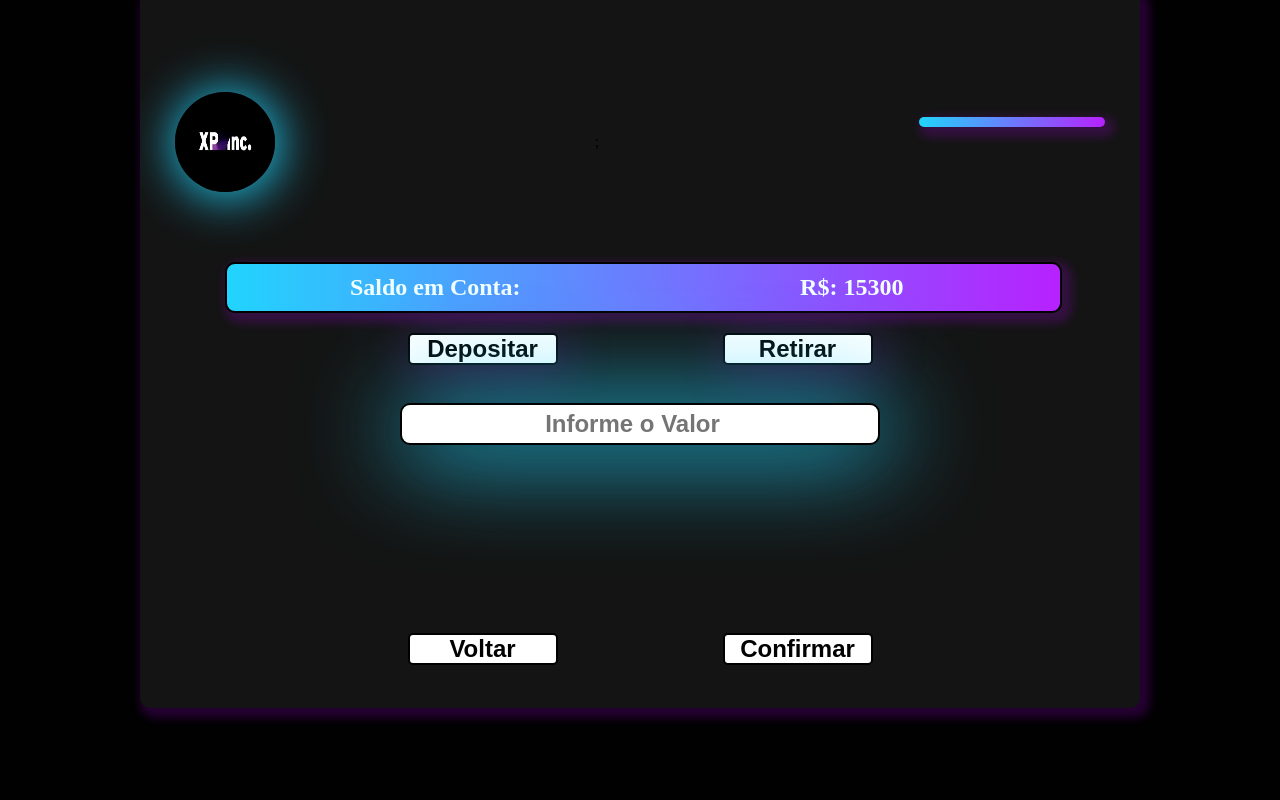
it: 6. Teste se o botão de confirmar funciona › 6.1. Será validado se o botão de confirmar funciona apos escolher uma opçao e informar um valor
Expected: the number field with test id "inputValue" is shown, [400, 403, 880, 445]
Expected: the button with test id "btnConfirm" is shown, [722, 633, 872, 665]
Click the button with test id "btnDeposit" at (482, 349), box [408, 333, 558, 365]
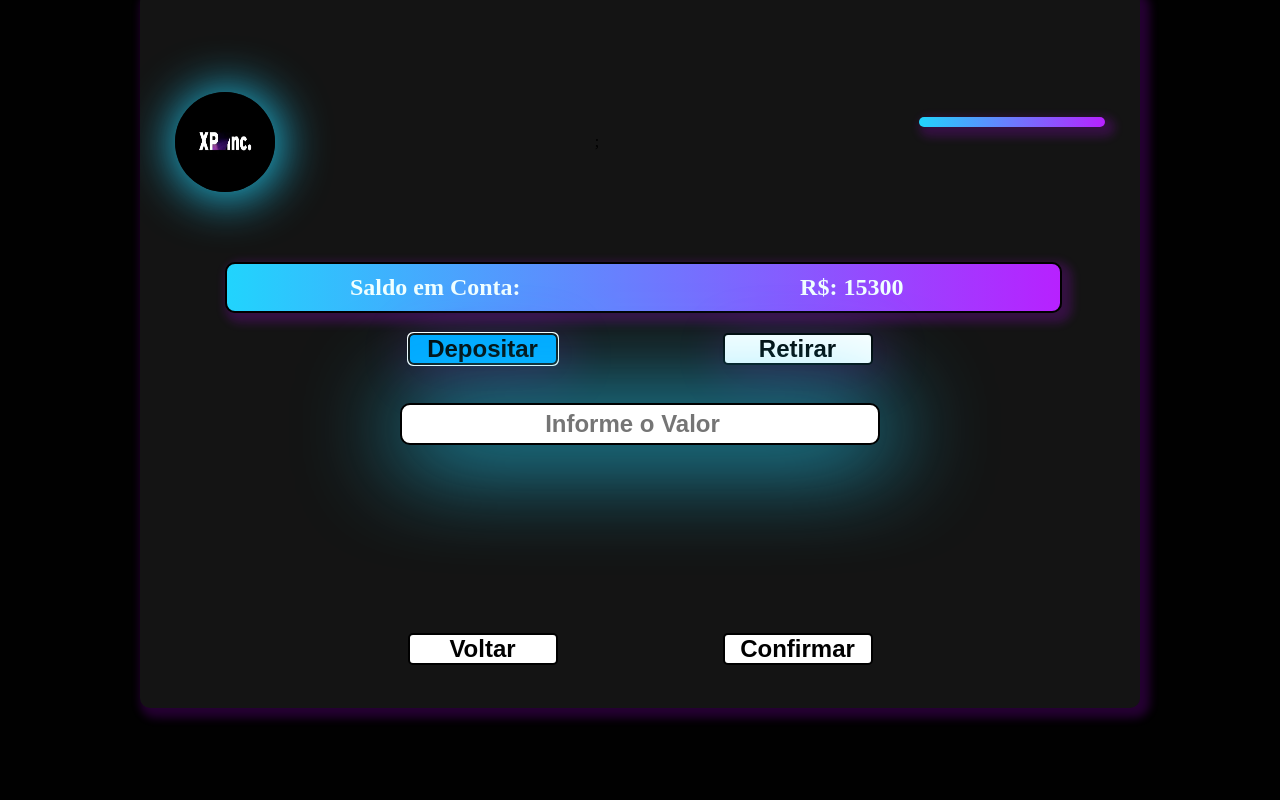
Now the button with test id "btnDeposit" has class "active", box [408, 333, 558, 365]
Type "100" into the number field with test id "inputValue" at (640, 424), box [400, 403, 880, 445]
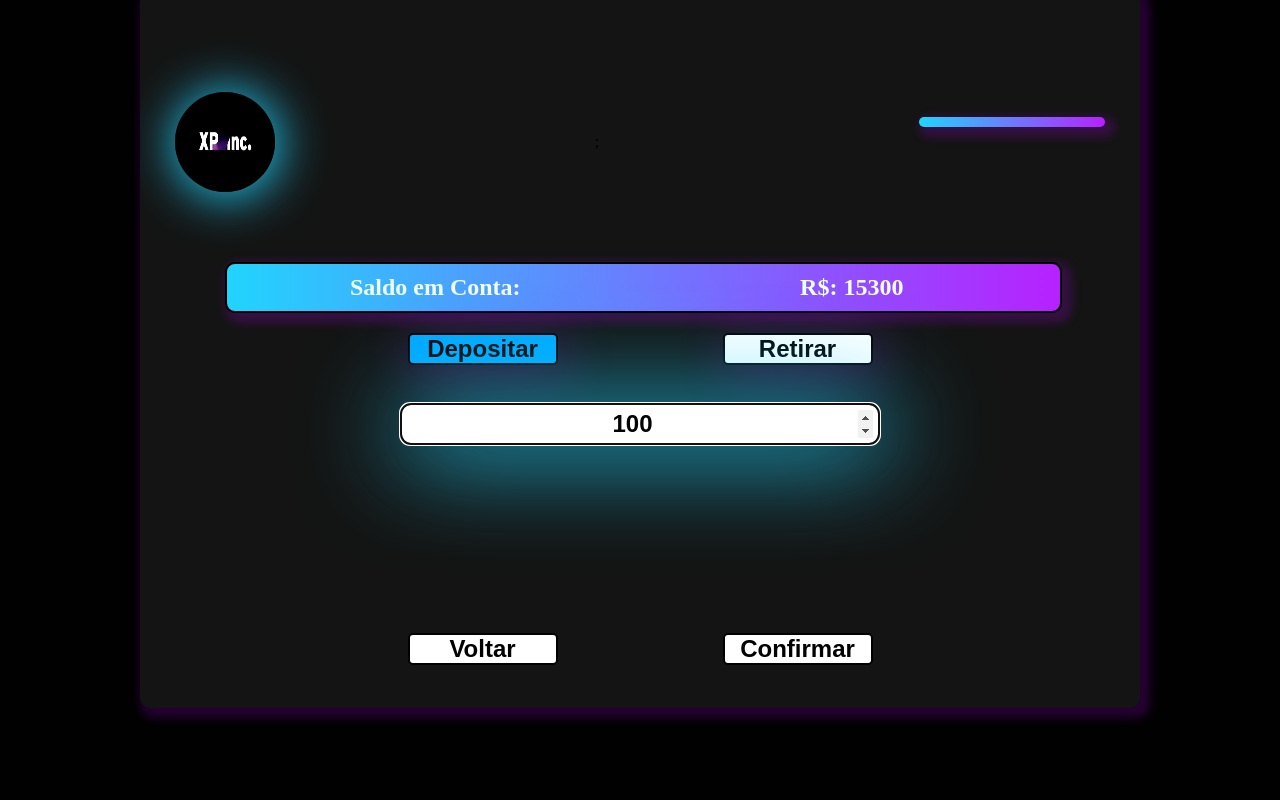
Click the button with test id "btnConfirm" at (798, 649), box [722, 633, 872, 665]
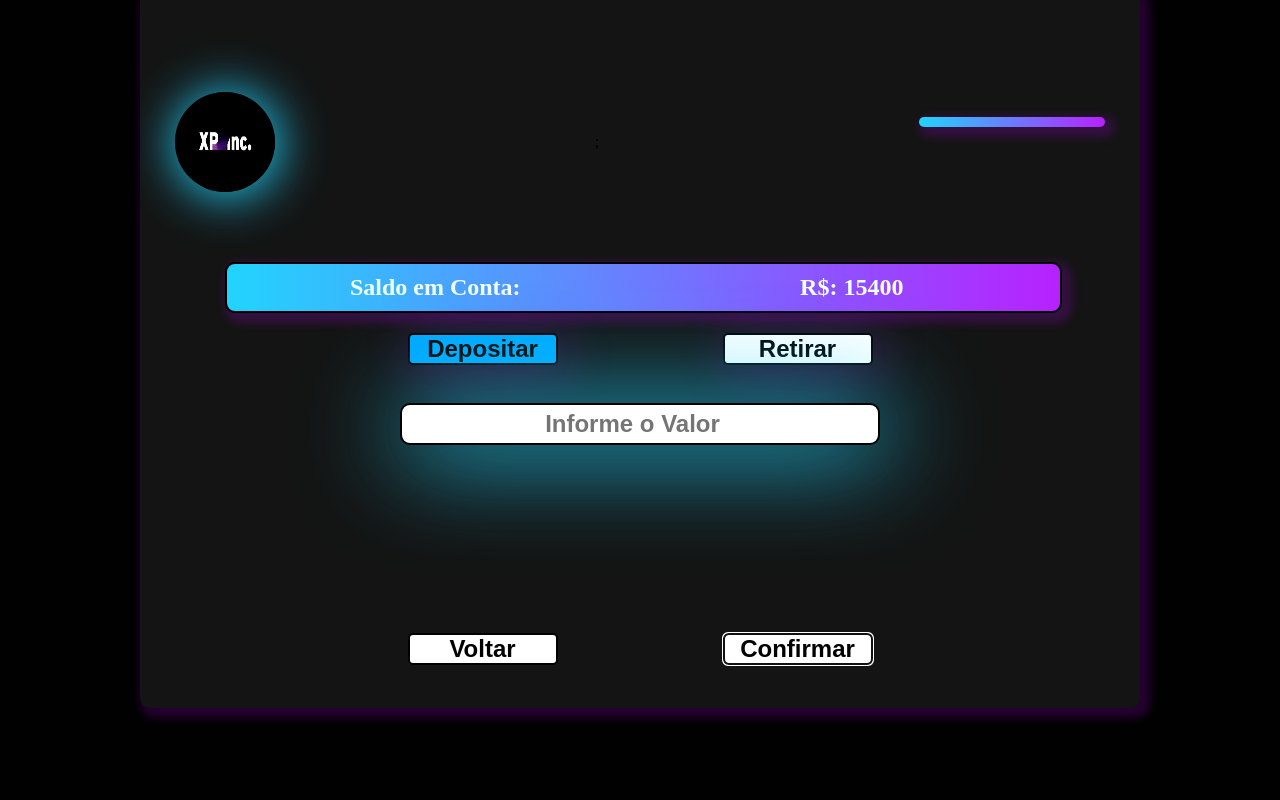
Now the heading with test id "saldoValor" reads "R$: 15400", box [800, 274, 903, 300]
